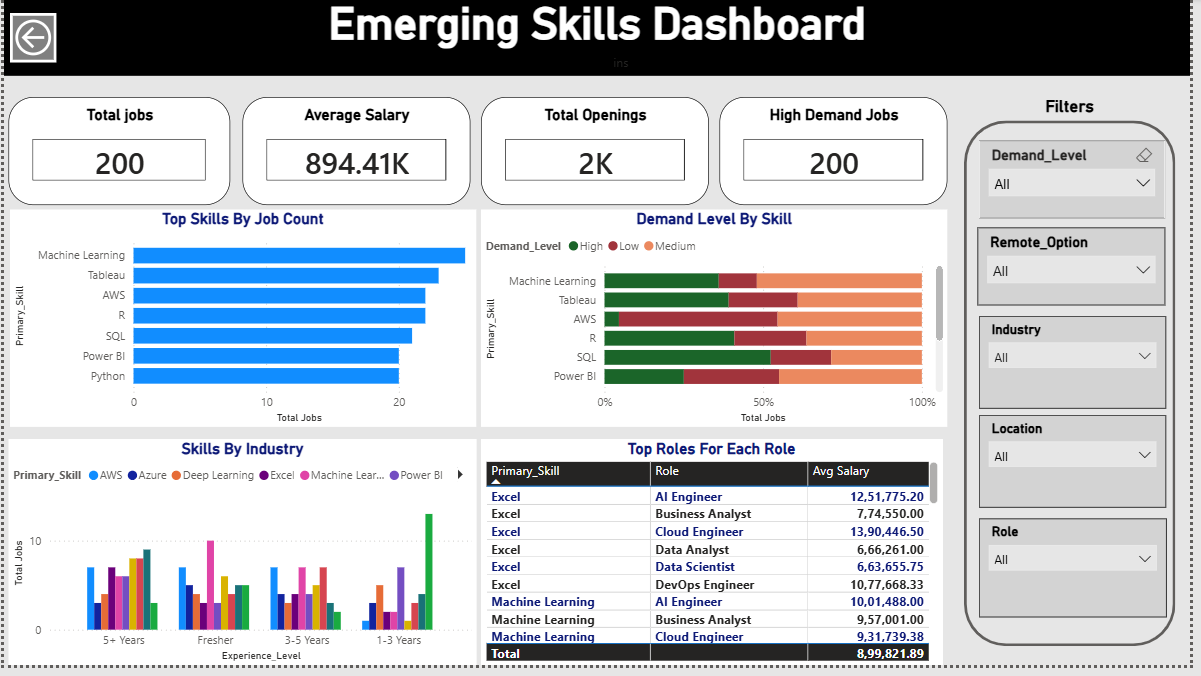

What the dashboard file says about the page in this screenshot:
{"tool":"powerbi","page":{"name":"Emerging Skills","canvas":[1280,720],"ordinal":4},"visuals":[{"type":"textbox","title":" Emerging Skills Dashboard","box":[0,0,1280.8,84.2],"z":0},{"type":"actionButton","box":[6.5,16.2,50.2,53.4],"z":1000},{"type":"actionButton","title":"Filters","box":[1036.3,106.9,228.3,592.6],"z":2000},{"type":"cardVisual","title":"Total jobs","fields":{"Data":["job_market_trends_dataset_200ro.Total Jobs"]},"box":[4.9,106.9,239.6,116.6],"z":3000},{"type":"cardVisual","title":"Average Salary","fields":{"Data":["job_market_trends_dataset_200ro.Avg Salary"]},"box":[257.5,106.9,246.1,116.6],"z":4000},{"type":"cardVisual","title":"Total Openings","fields":{"Data":["job_market_trends_dataset_200ro.Total Openings"]},"box":[514.9,106.9,246.1,116.6],"z":5000},{"type":"cardVisual","title":"High Demand Jobs","fields":{"Data":["job_market_trends_dataset_200ro.High Demand Jobs"]},"box":[772.4,106.9,246.1,116.6],"z":6000},{"type":"barChart","title":"Top Skills By Job Count","fields":{"Category":["job_market_trends_dataset_200ro.Primary_Skill"],"Y":["job_market_trends_dataset_200ro.Total Jobs"]},"box":[6.5,228.3,503,234.8],"z":7000},{"type":"hundredPercentStackedBarChart","title":"Demand Level By Skill","fields":{"Category":["job_market_trends_dataset_200ro.Primary_Skill"],"Series":["job_market_trends_dataset_200ro.Demand_Level"],"Y":["job_market_trends_dataset_200ro.Total Jobs"]},"box":[514.9,228.3,503.6,234.8],"z":8000},{"type":"lineClusteredColumnComboChart","title":"Skills By Industry","fields":{"Category":["job_market_trends_dataset_200ro.Experience_Level"],"Y":["job_market_trends_dataset_200ro.Total Jobs"],"Series":["job_market_trends_dataset_200ro.Primary_Skill"]},"box":[4.9,476.1,505.2,244.5],"z":9000},{"type":"tableEx","title":"Top Roles For Each Role","fields":{"Values":["job_market_trends_dataset_200ro.Primary_Skill","job_market_trends_dataset_200ro.Role","job_market_trends_dataset_200ro.Avg Salary"]},"box":[514.9,476.1,498,244],"z":10000},{"type":"slicer","fields":{"Values":["job_market_trends_dataset_200ro.Demand_Level"]},"box":[1052.5,153.8,200.8,84.2],"z":11000},{"type":"slicer","fields":{"Values":["job_market_trends_dataset_200ro.Remote_Option"]},"box":[1050.9,247.7,202.4,84.2],"z":12000},{"type":"slicer","fields":{"Values":["job_market_trends_dataset_200ro.Industry"]},"box":[1052.5,343.3,202,100],"z":13000},{"type":"slicer","fields":{"Values":["job_market_trends_dataset_200ro.Location"]},"box":[1052.5,450.1,202,100],"z":14000},{"type":"slicer","fields":{"Values":["job_market_trends_dataset_200ro.Role"]},"box":[1052.5,561.9,202.4,106.9],"z":15000}]}

Visuals, with their boxes in screenshot pixels (x1, y1, x2, y2), scaled from the page's 1280x720 canvas onto the 1201x676 screenshot:
" Emerging Skills Dashboard" textbox: (left=0, top=0, right=1200, bottom=79)
actionButton: (left=6, top=15, right=53, bottom=65)
"Filters" actionButton: (left=972, top=100, right=1187, bottom=657)
"Total jobs" cardVisual: (left=5, top=100, right=229, bottom=210)
"Average Salary" cardVisual: (left=242, top=100, right=473, bottom=210)
"Total Openings" cardVisual: (left=483, top=100, right=714, bottom=210)
"High Demand Jobs" cardVisual: (left=725, top=100, right=956, bottom=210)
"Top Skills By Job Count" barChart: (left=6, top=214, right=478, bottom=435)
"Demand Level By Skill" hundredPercentStackedBarChart: (left=483, top=214, right=956, bottom=435)
"Skills By Industry" lineClusteredColumnComboChart: (left=5, top=447, right=479, bottom=675)
"Top Roles For Each Role" tableEx: (left=483, top=447, right=950, bottom=675)
slicer - job_market_trends_dataset_200ro.Demand_Level: (left=988, top=144, right=1176, bottom=223)
slicer - job_market_trends_dataset_200ro.Remote_Option: (left=986, top=233, right=1176, bottom=312)
slicer - job_market_trends_dataset_200ro.Industry: (left=988, top=322, right=1177, bottom=416)
slicer - job_market_trends_dataset_200ro.Location: (left=988, top=423, right=1177, bottom=516)
slicer - job_market_trends_dataset_200ro.Role: (left=988, top=528, right=1177, bottom=628)
